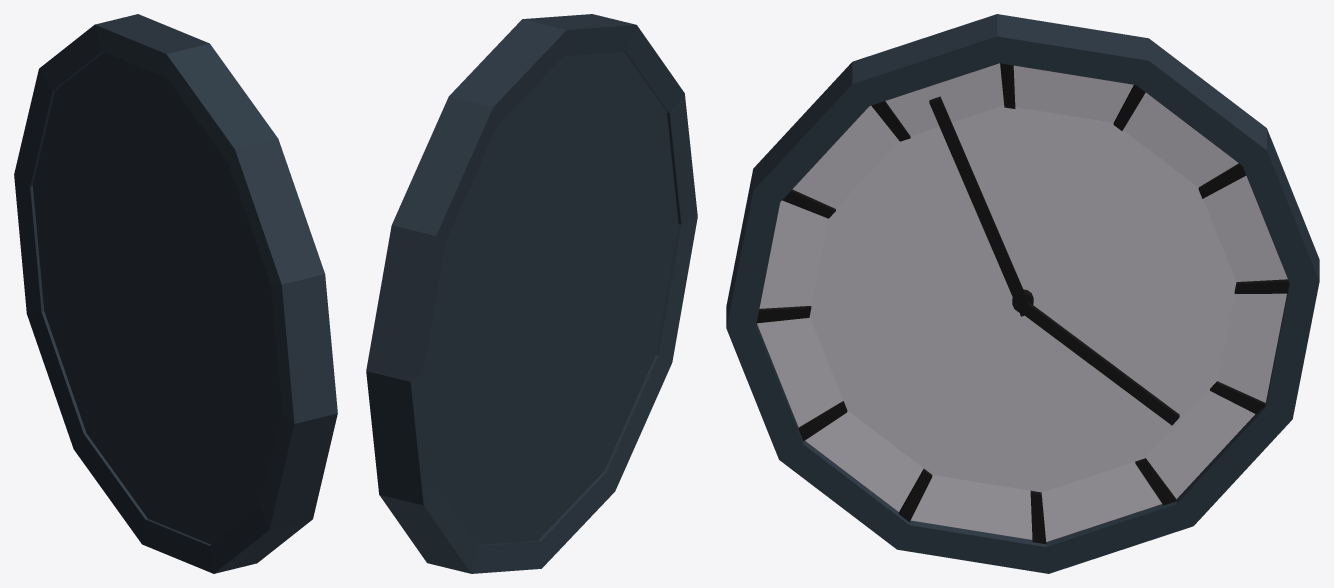
Rendered from clock2.fbx.
3 views of the same model, side by side, from view 1: azimuth 30°, elevation 25°; view 2: azimuth 150°, elevation 25°; view 3: azimuth 270°, elevation 25° (orthographic). The views are drawn at different scales.
Parts seen in each view (by area): view 1: Clock; view 2: Clock; view 3: Clock, ClockArm, ClockArm.001.
Boxes of the visible parts, x1,y1,x2,y2 form: Clock: [14, 14, 337, 573]; Clock: [366, 14, 697, 573]; Clock: [726, 14, 1319, 573]; ClockArm: [929, 96, 1031, 316]; ClockArm.001: [1016, 302, 1179, 425].
Bounding box in the file's own units: 0.0345 × 0.3699 × 0.3699.
